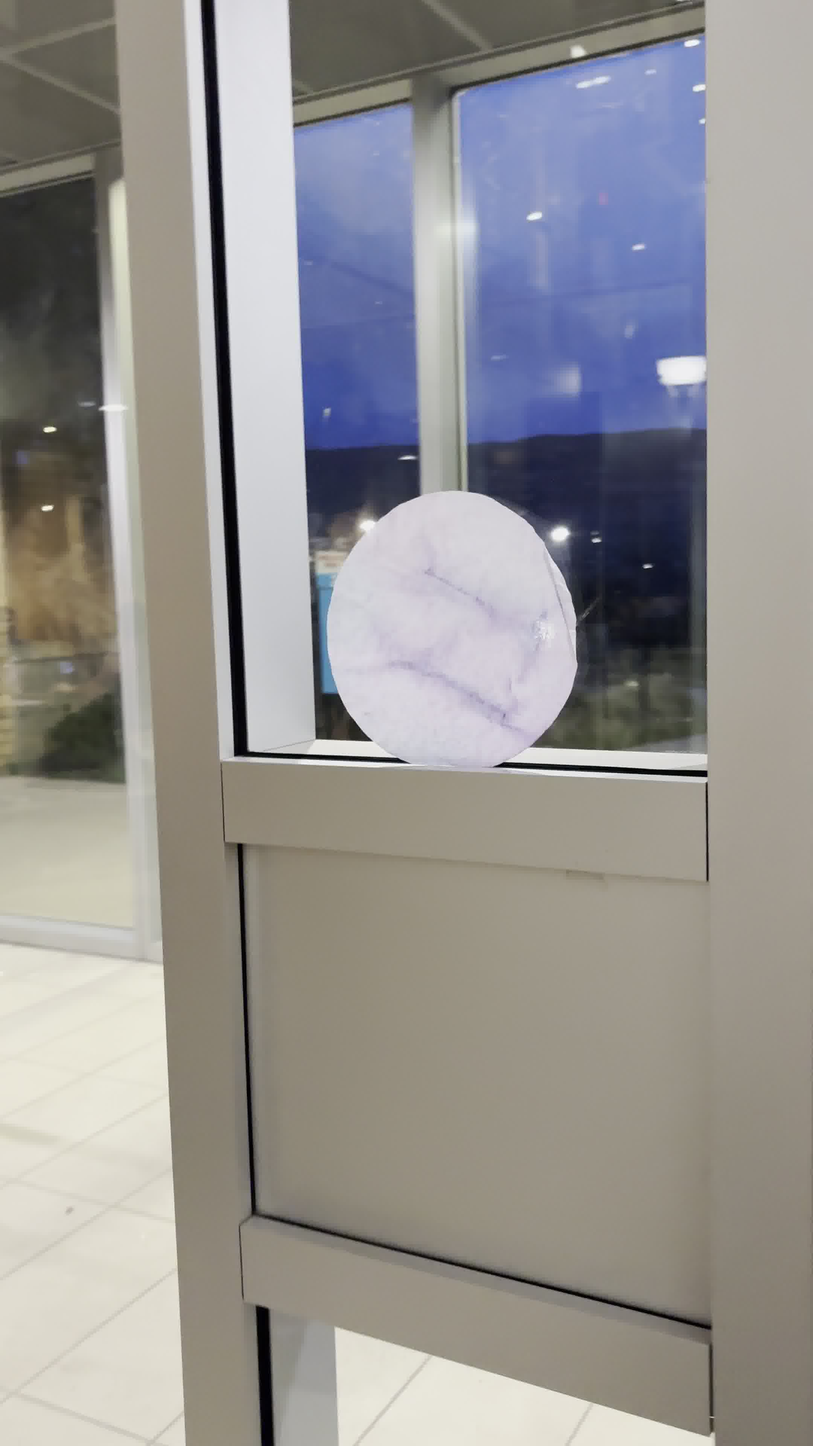Target: (326, 491, 578, 768)
